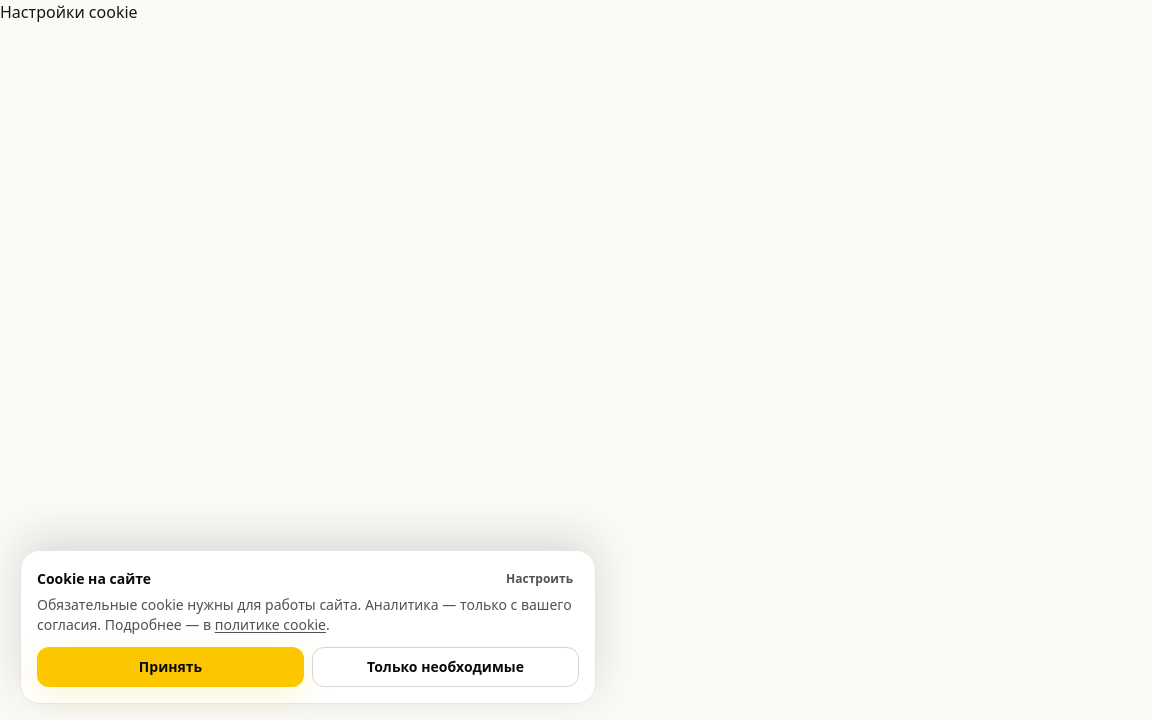
Test: cookie consent › opens settings and closes them with Escape
Click the button "Настроить" at (540, 579), box x1=500 y1=567 x2=579 y2=591
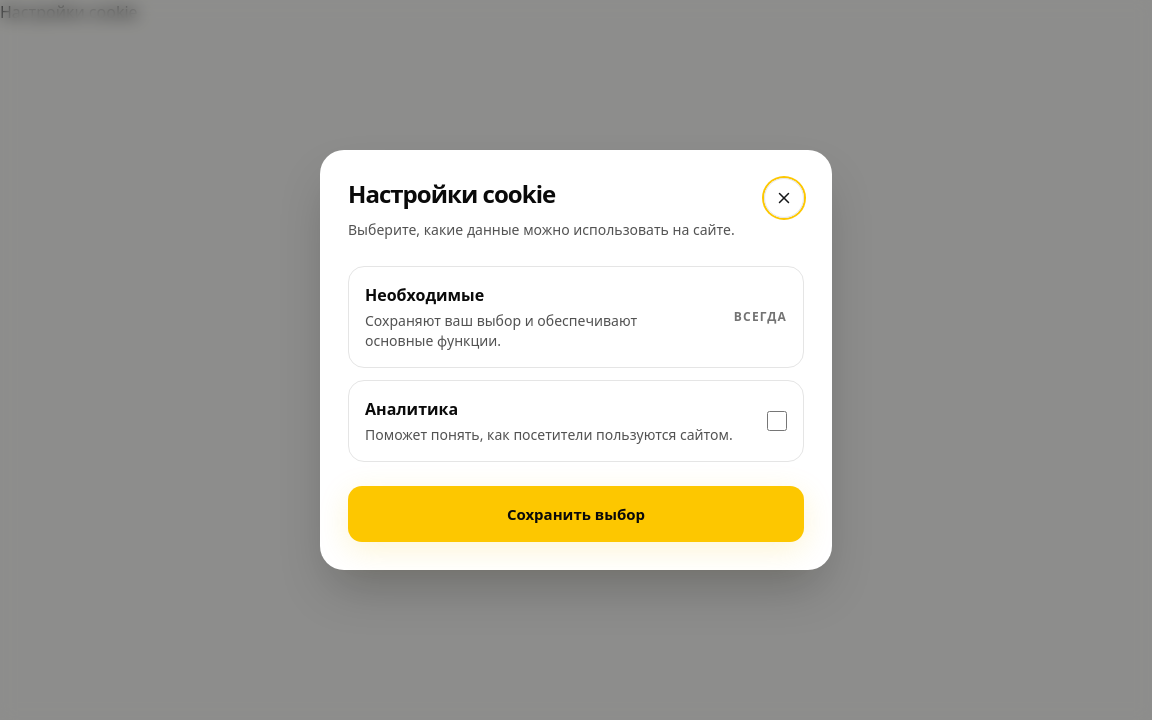
Expected: the dialog "Настройки cookie" is shown, x1=320 y1=150 x2=832 y2=570
Press Escape
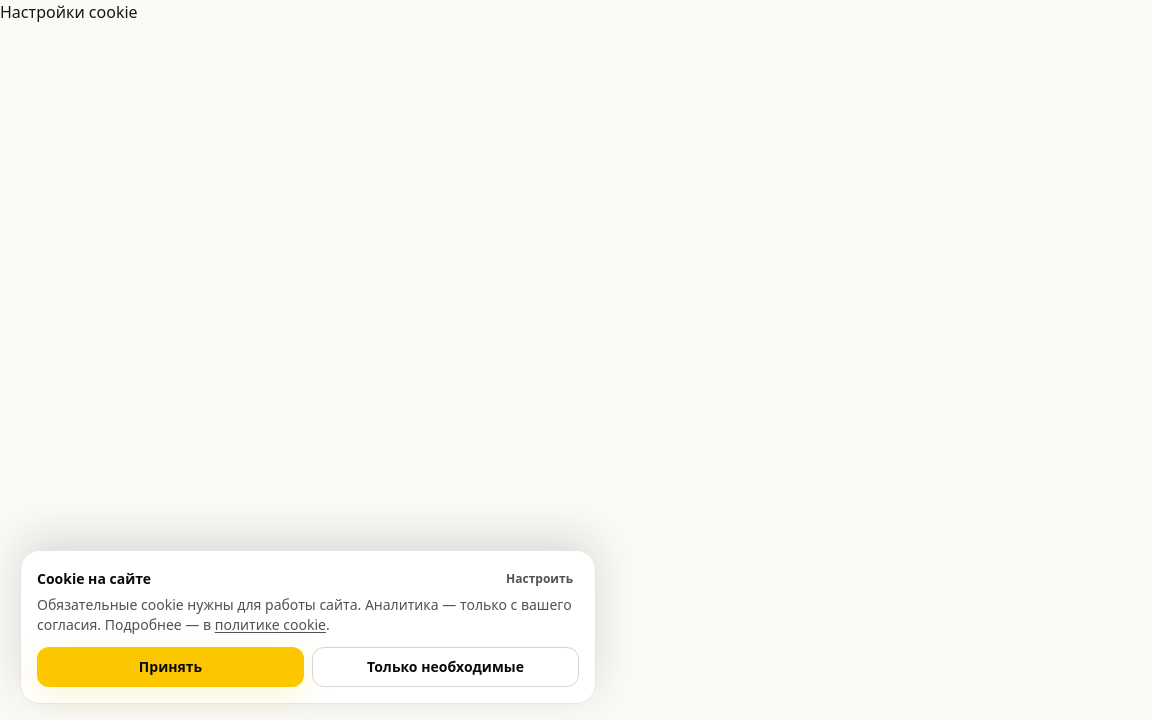
Expected: the dialog is gone
